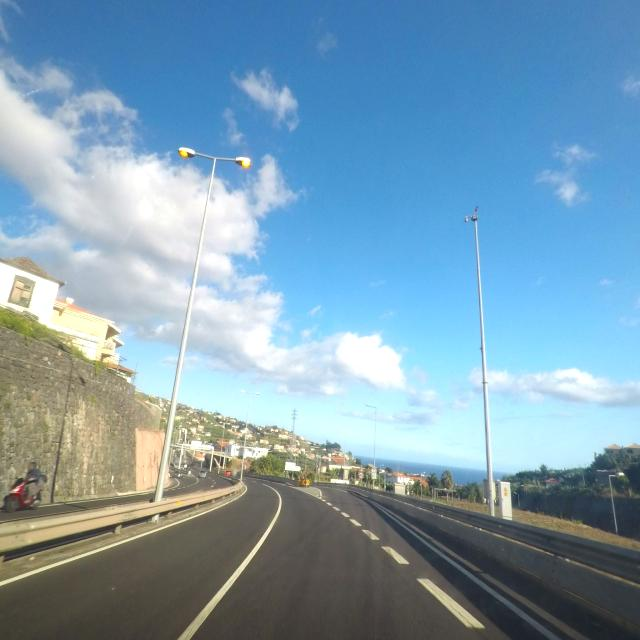car: (0, 469, 45, 512)
